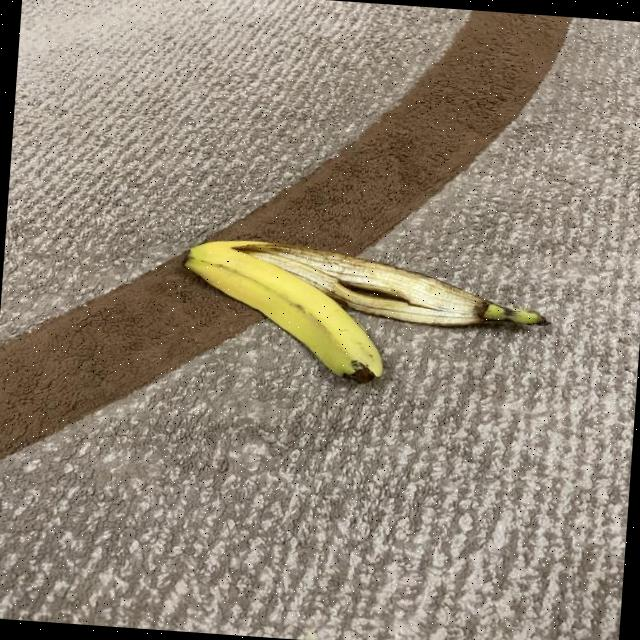banana-peel: (174, 234, 391, 386), (227, 237, 554, 334)
